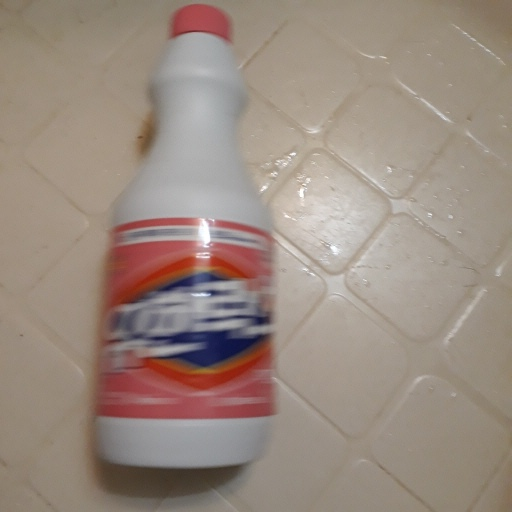Plastic_0: (99, 4, 279, 478)
